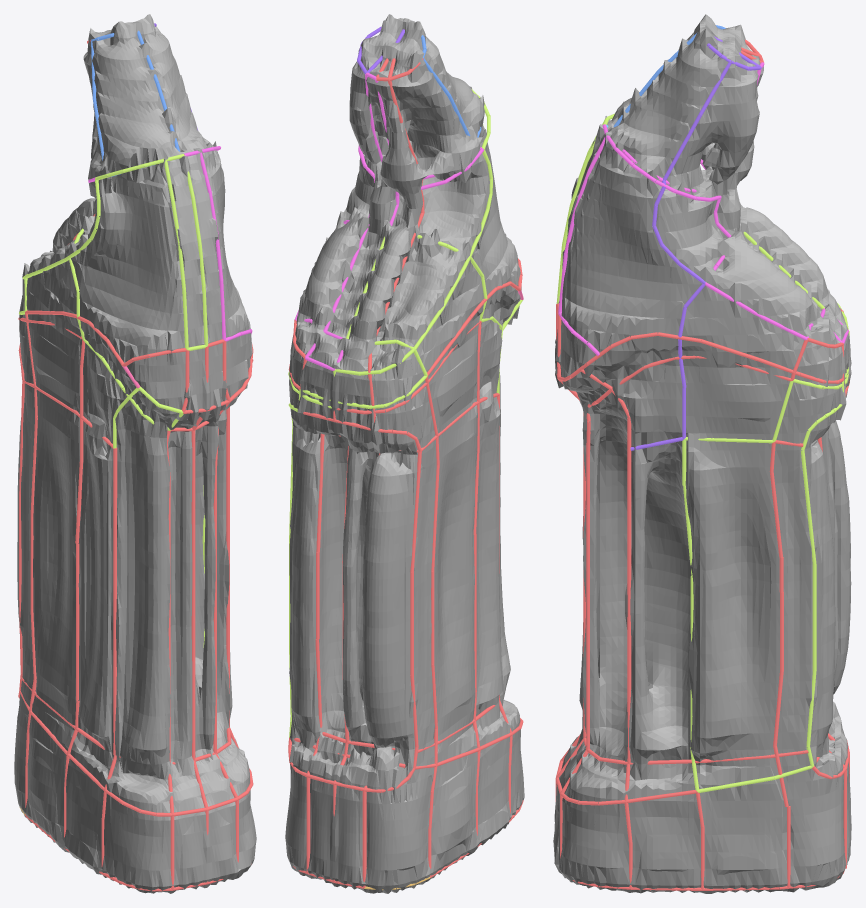
Rendered from flowrep_bottle.gltf.
3 renders of one model, left to right at view 1: azimuth 30°, elevation 25°; view 2: azimuth 150°, elevation 25°; view 3: azimuth 270°, elevation 25°, orthographic. The views are drawn at different scales.
Bounding box in the file's own units: 0.1871 × 0.9609 × 0.3083.
